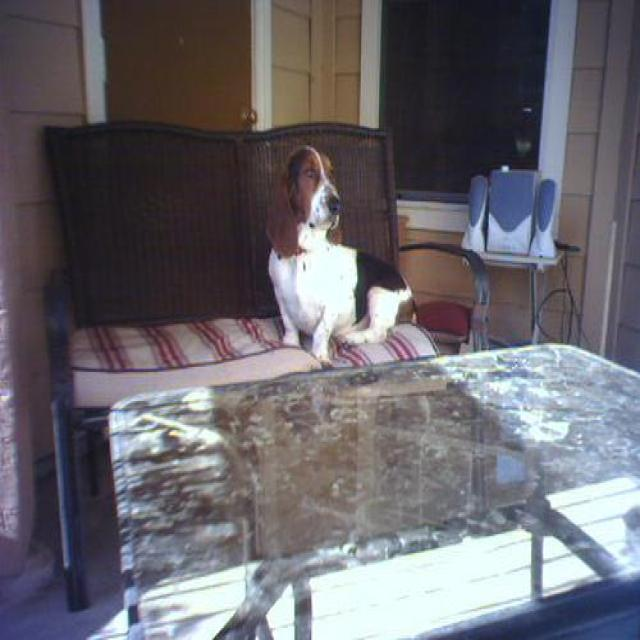basset: (267, 144, 418, 366)
